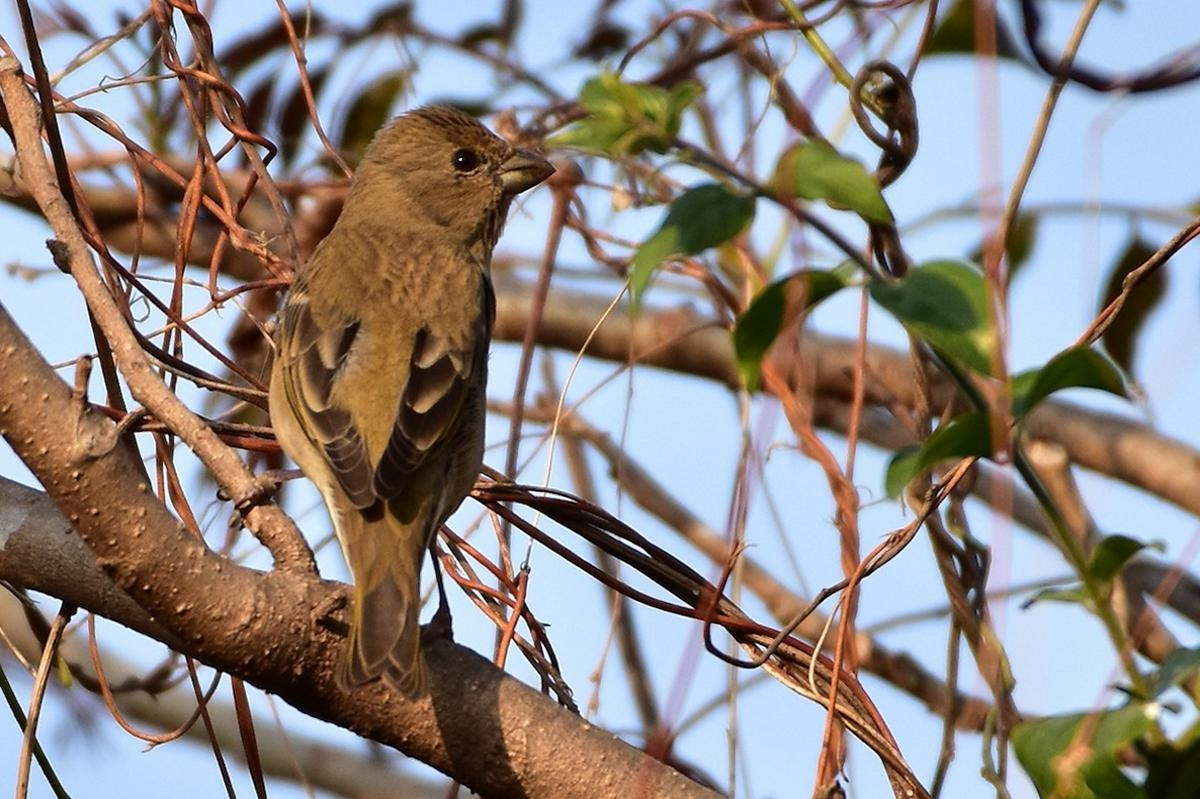rosefinch: (249, 104, 570, 684)
